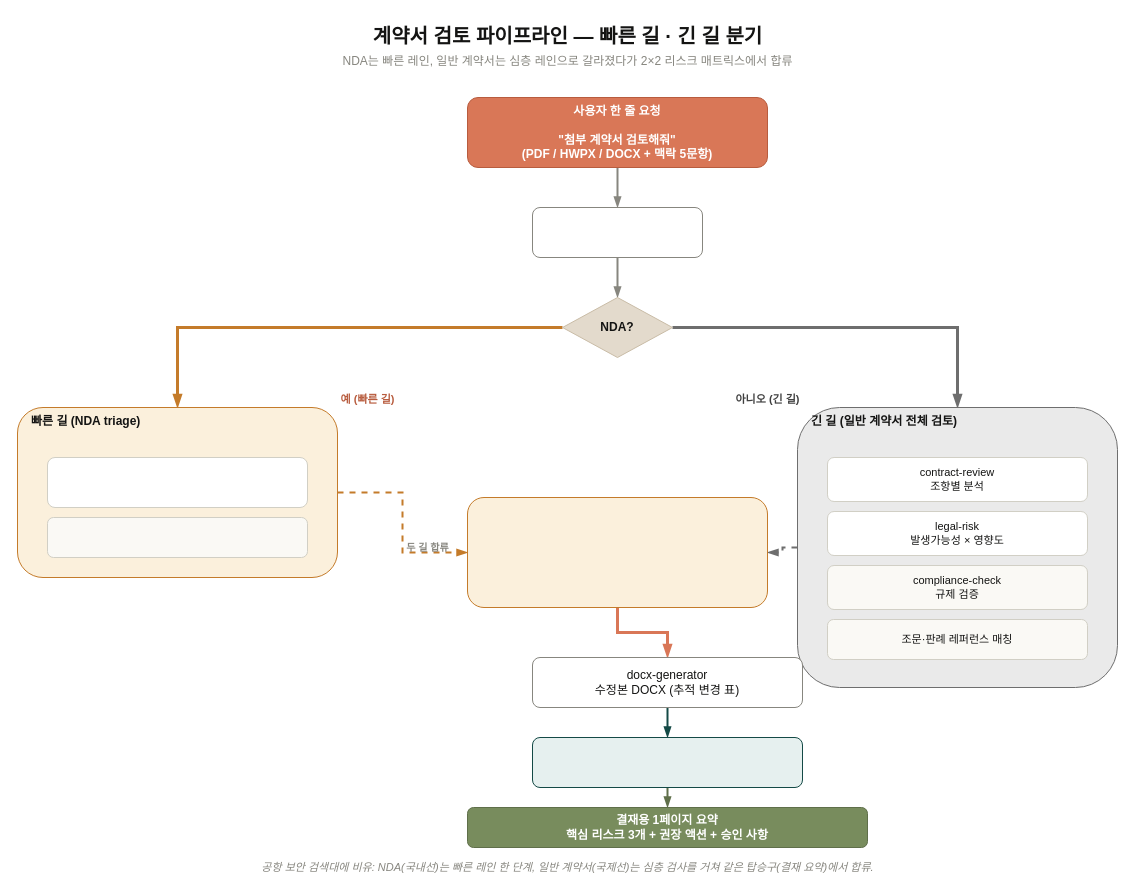
Some shapes in this 1135 by 894 pixel diagram are drawn without their labels. The centre of each missing label's shape, as x and y in pixels:
2×2 리스크 매트릭스 가로: 일어날 가능성 세로: 터졌을 때 피해 규모 고위험 상위 3개 → 협상 포인트 자동 선정: [617,552]
ai-slop-reviewer 어투 정리 (결재용 다듬기): [667,762]
nda-triage (계약서 분류): [617,232]
nda-triage 리스크 항목 빠르게 추출: [177,482]
위험도 점수화 (가벼움): [177,537]
